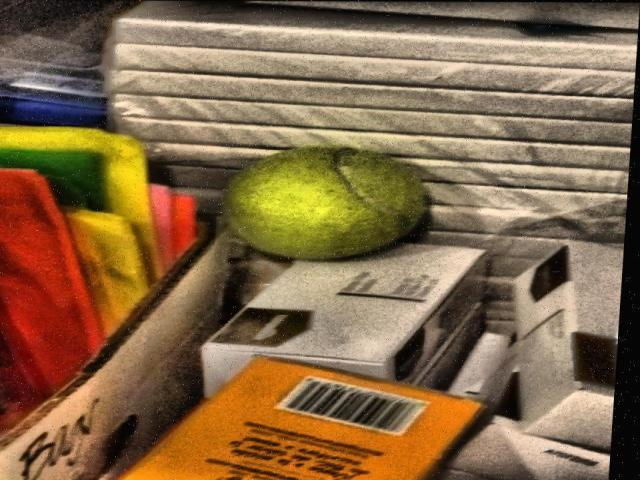tennis-ball: (218, 141, 429, 263)
